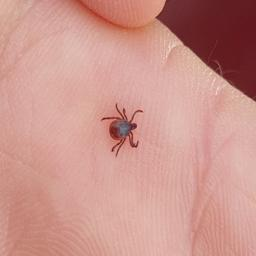Ixodes scapularis: (101, 103, 144, 158)
